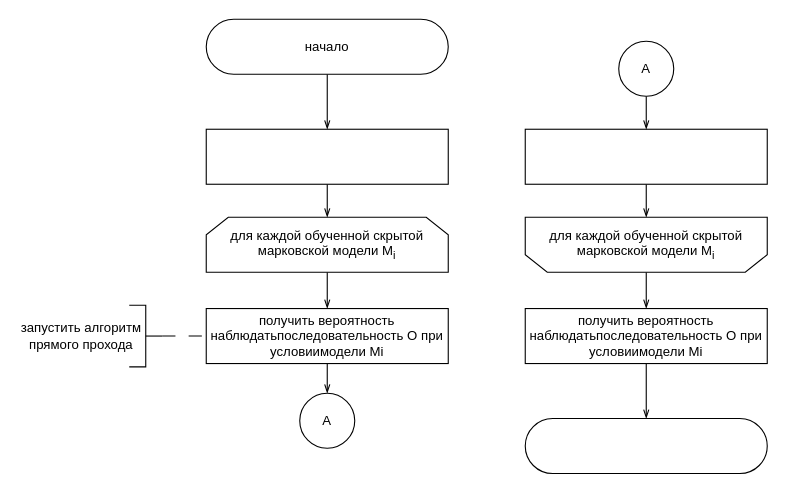
Image size: 787x493. Some labels were removed from this diagram. The shapes that lost their labels are listed below. From the top down, each one's box as (x1, y1, x2, y2) in pixels, then its label:
(205, 128, 448, 184): инифиализировать массив вероятностей наблюдения последовательности O
(524, 128, 767, 184): добавить найденную вероятность в массив вероятностей
(524, 417, 767, 474): конец
